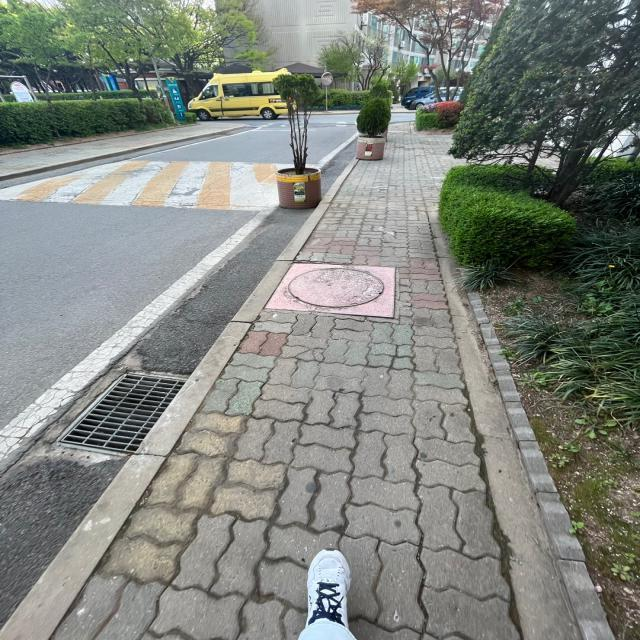Sewer Cover: (263, 255, 415, 328)
